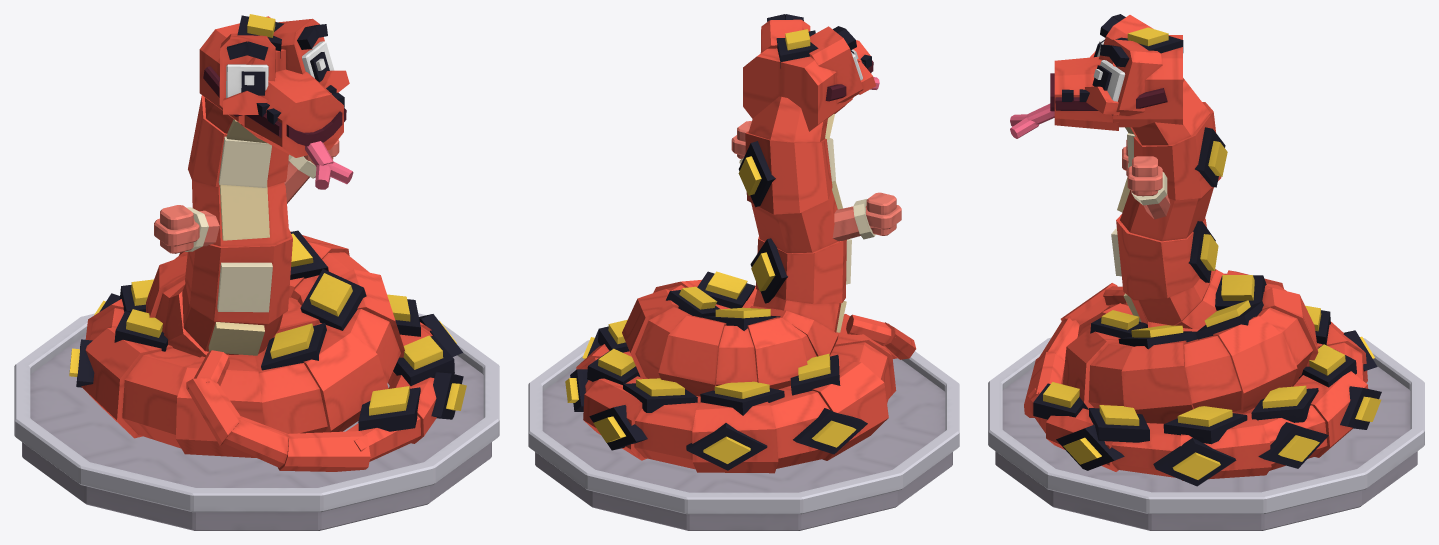
File: TinyArmsBoa.fbx
3 renders of one model, left to right at view 1: azimuth 30°, elevation 25°; view 2: azimuth 150°, elevation 25°; view 3: azimuth 270°, elevation 25°, orthographic. The views are drawn at different scales.
Visible parts, largest first — view 1: Art_TinyArmsBoa_Body, Art_TinyArmsBoa_Stand, Art_TinyArmsBoa_Head, Art_TinyArmsBoa_Tail, Art_TinyArmsBoa_ArmR, Art_TinyArmsBoa_ArmL; view 2: Art_TinyArmsBoa_Body, Art_TinyArmsBoa_Stand, Art_TinyArmsBoa_Head, Art_TinyArmsBoa_ArmR, Art_TinyArmsBoa_Tail; view 3: Art_TinyArmsBoa_Body, Art_TinyArmsBoa_Stand, Art_TinyArmsBoa_Head, Art_TinyArmsBoa_Tail, Art_TinyArmsBoa_ArmL.
Boxes of the visible parts, x1,y1,x2,y2 form: Art_TinyArmsBoa_Body: (69, 95, 466, 461); Art_TinyArmsBoa_Stand: (14, 313, 499, 530); Art_TinyArmsBoa_Head: (199, 14, 353, 189); Art_TinyArmsBoa_Tail: (186, 350, 370, 471); Art_TinyArmsBoa_ArmR: (154, 205, 219, 253); Art_TinyArmsBoa_ArmL: (284, 139, 339, 203); Art_TinyArmsBoa_Body: (565, 96, 896, 473); Art_TinyArmsBoa_Stand: (528, 340, 959, 530); Art_TinyArmsBoa_Head: (743, 14, 879, 131); Art_TinyArmsBoa_ArmR: (832, 192, 901, 241); Art_TinyArmsBoa_Tail: (846, 314, 916, 359); Art_TinyArmsBoa_Body: (1028, 78, 1381, 486); Art_TinyArmsBoa_Stand: (988, 337, 1424, 530); Art_TinyArmsBoa_Head: (1010, 14, 1183, 138); Art_TinyArmsBoa_Tail: (1024, 283, 1127, 417); Art_TinyArmsBoa_ArmL: (1127, 156, 1170, 219).
Bounding box in the file's own units: 2.99 × 3.02 × 2.99.
